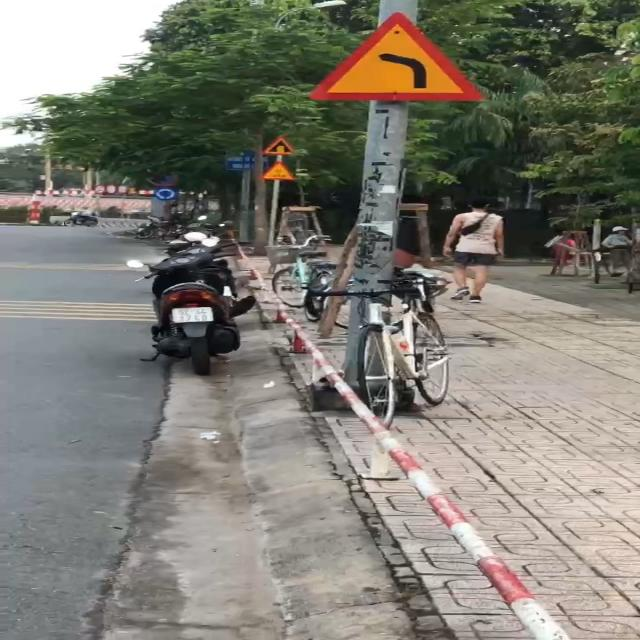Bien bao cho ngoat nguy hiem: (298, 2, 503, 102)
